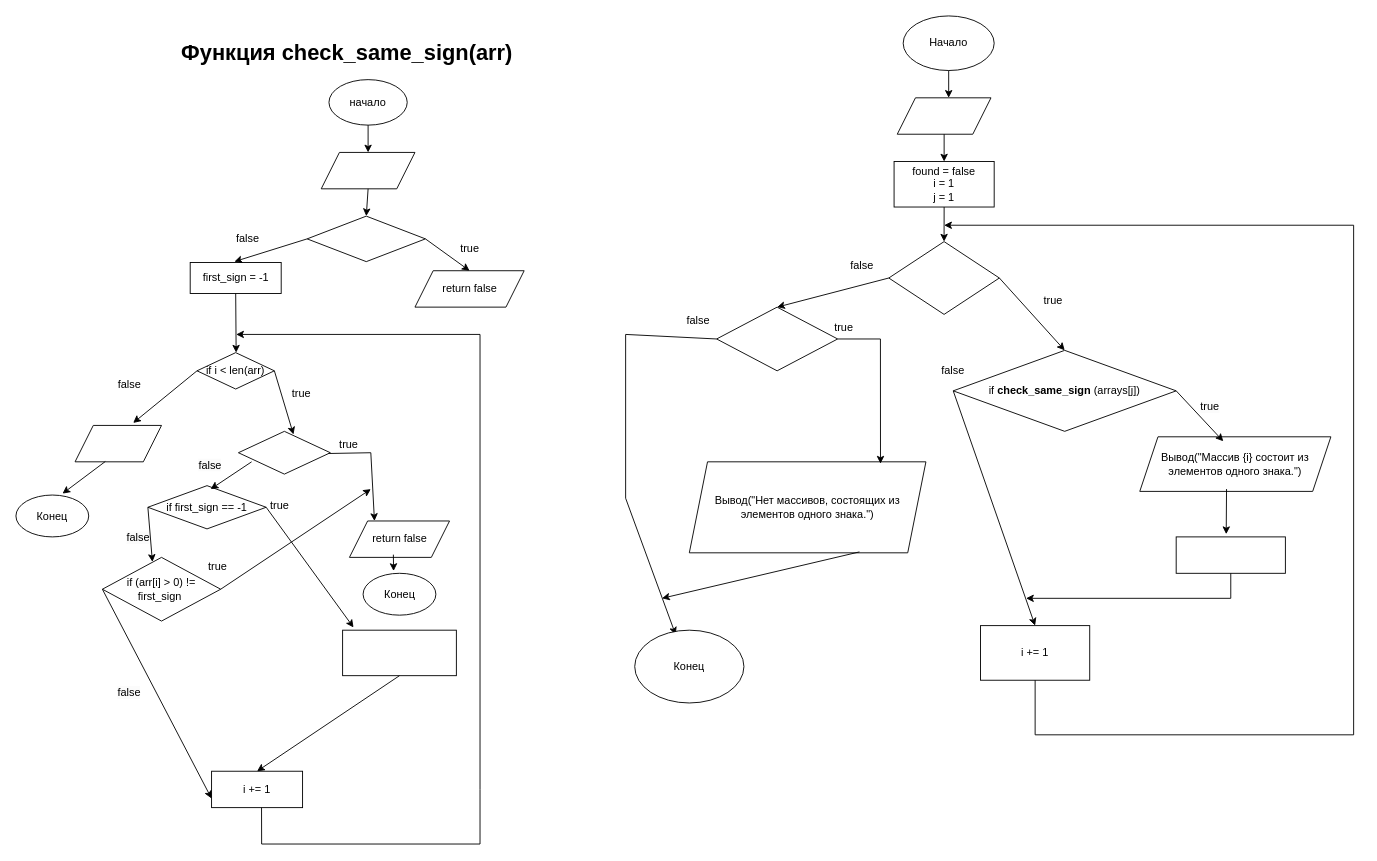
The diagram is 1377 pixels wide and 861 high, and some of its shapes have lost their labels. The centre of each missing label's shape, as x and y in pixels:
"arr" goes at point (367, 170).
"arrays" goes at point (943, 115).
"first_sign = arr[i] > 0" goes at point (399, 652).
"found = True" goes at point (1230, 554).
"if arr[i] == 0" goes at point (284, 452).
"if found == 0" goes at point (777, 338).
"if j < len(arays)" goes at point (943, 277).
"if len(arr) == 0" goes at point (365, 238).
"return true" goes at point (118, 443).
